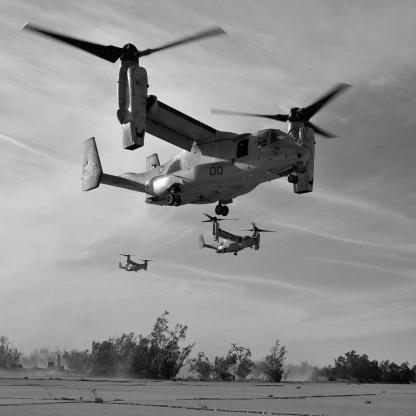V22: (22, 22, 355, 218), (199, 214, 278, 257), (119, 254, 157, 274)
